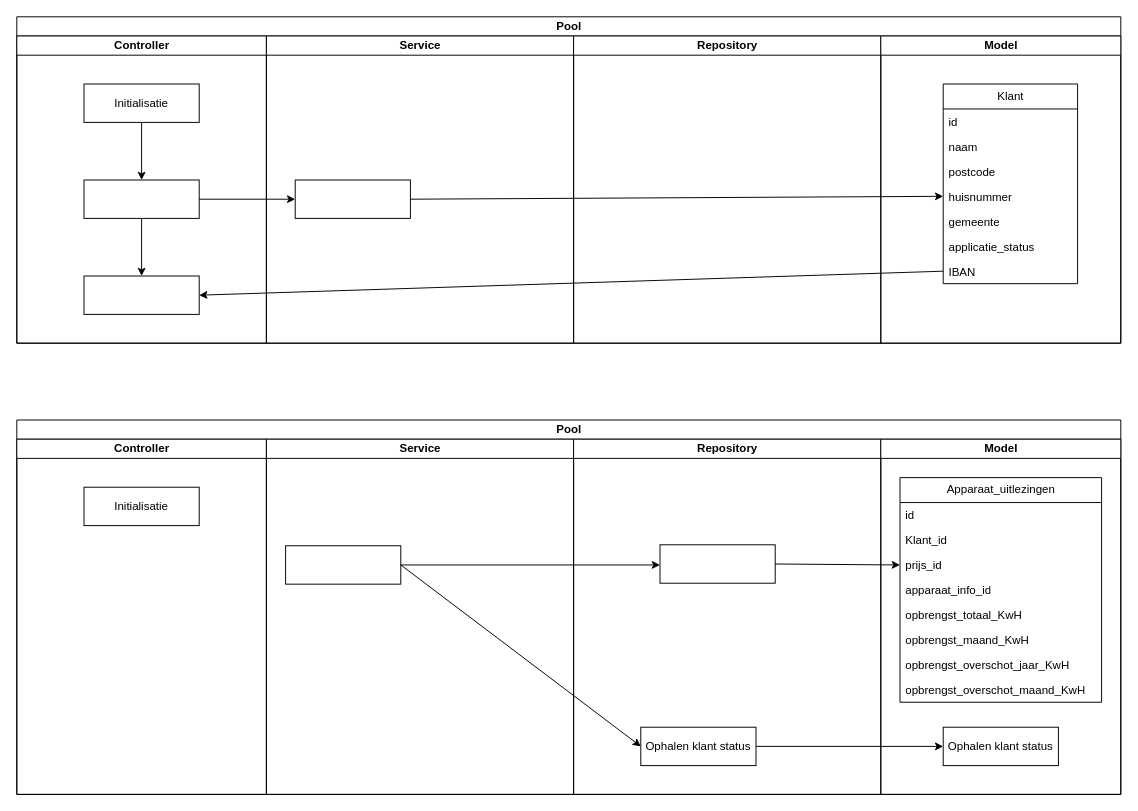
This 1138x811 diagram has some shape labels left out. The centre of each missing label's shape, as x and y in pixels:
"Activatie apparaat" belongs at (141,294).
"Klant toevoegen" belongs at (141,198).
"Ophalen gegevens apparaat" belongs at (343,564).
"Opslaan gevens apparaat" belongs at (717,563).
"Toevoegen klant" belongs at (352,198).
